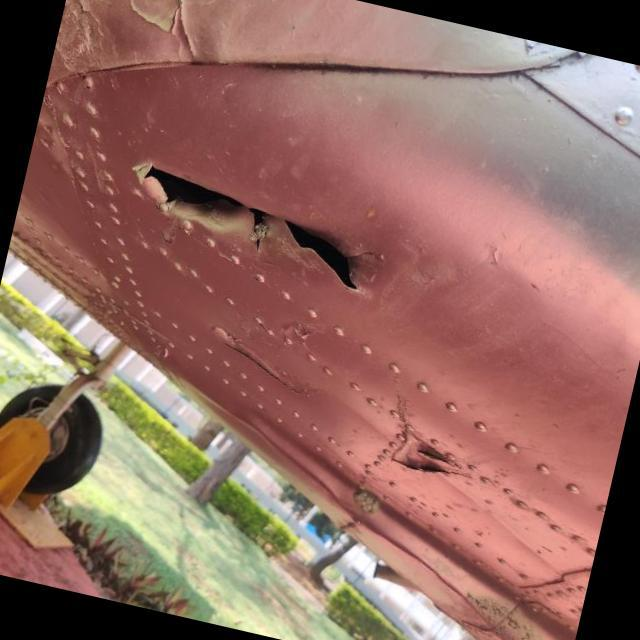Rupture: (106, 130, 404, 304)
